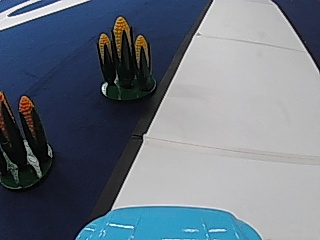corn: (93, 12, 158, 101), (0, 87, 55, 191)
